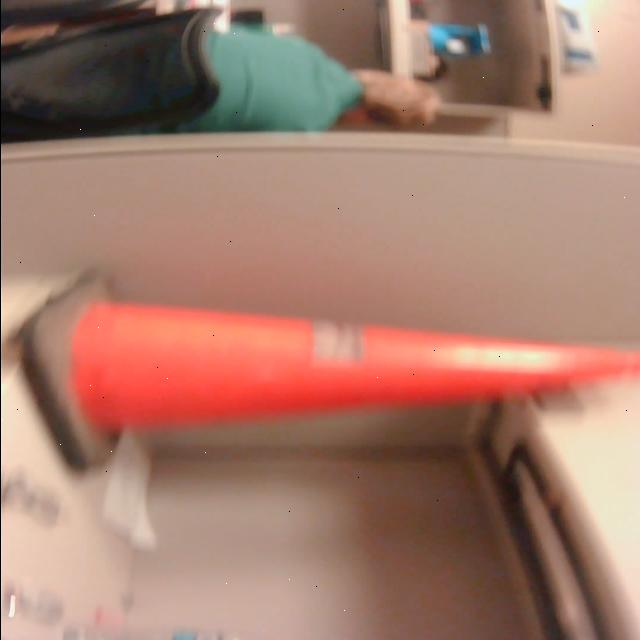traffic cone: (9, 264, 640, 478)
